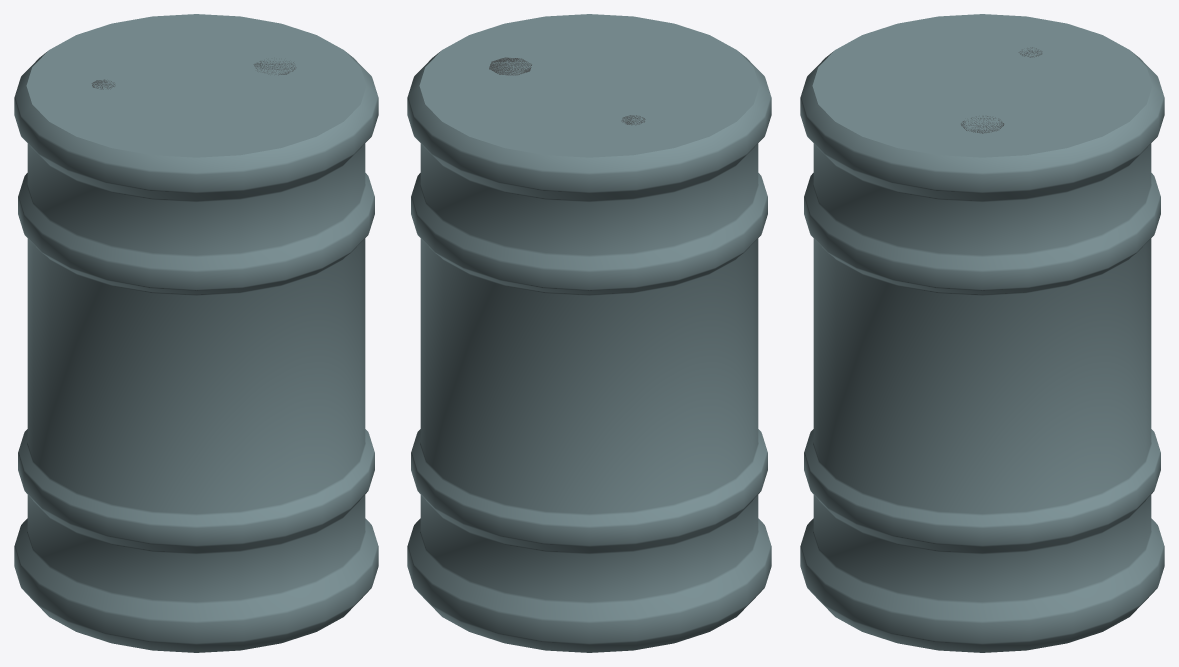
The model's file is SM_LS_Barrel.fbx.
3 views of the same model, side by side, from view 1: azimuth 30°, elevation 25°; view 2: azimuth 150°, elevation 25°; view 3: azimuth 270°, elevation 25° (orthographic).
Parts seen in each view (by area): view 1: SM_LS_Barrel; view 2: SM_LS_Barrel; view 3: SM_LS_Barrel.
Boxes of the visible parts, x1,y1,x2,y2 form: SM_LS_Barrel: (14,14,378,652); SM_LS_Barrel: (407,14,771,652); SM_LS_Barrel: (800,14,1164,652).
Size of what is drawn, in the model's own units: 0.6 by 0.6 by 0.9.
